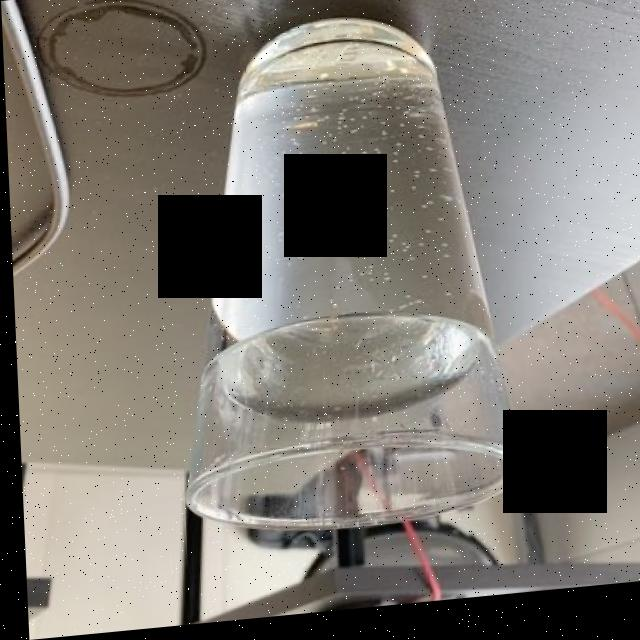water-mineral: (212, 44, 481, 413)
